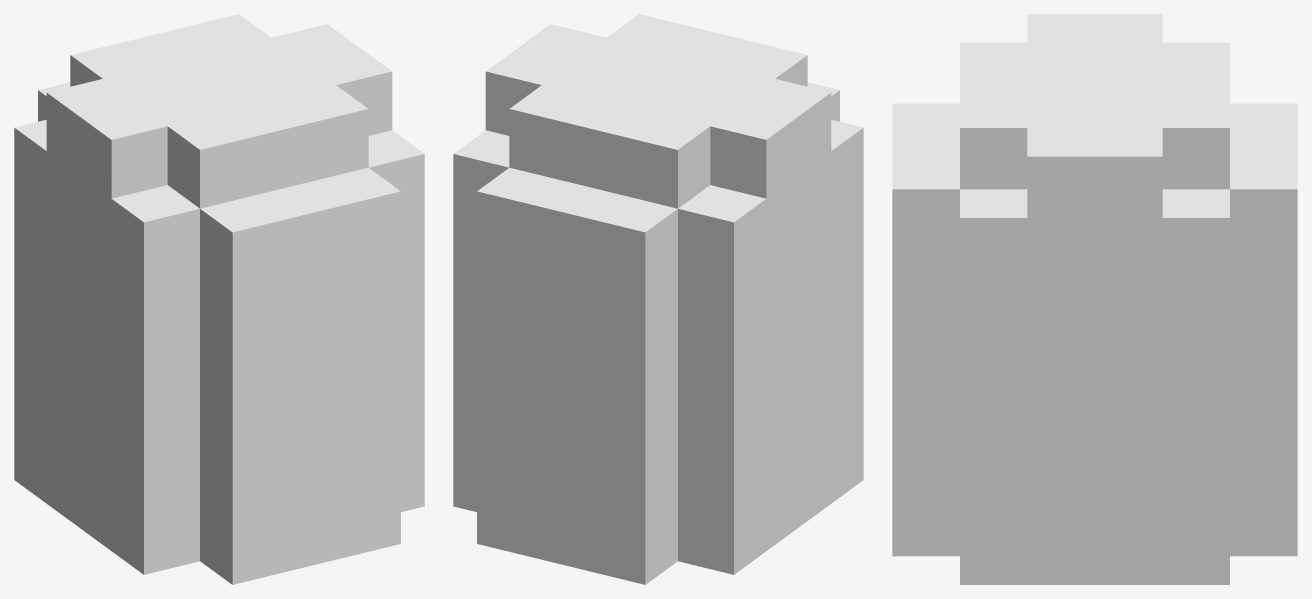
File: body_base.gltf
3 views of the same model, side by side, from view 1: azimuth 30°, elevation 25°; view 2: azimuth 150°, elevation 25°; view 3: azimuth 270°, elevation 25° (orthographic). The views are drawn at different scales.
Parts seen in each view (by area): view 1: Layer.1; view 2: Layer.1; view 3: Layer.1.
Boxes of the visible parts, x1=… form: Layer.1: x1=14, y1=14, x2=424, y2=584; Layer.1: x1=453, y1=14, x2=863, y2=584; Layer.1: x1=892, y1=14, x2=1297, y2=584.
Size of the model in its own units: 5 by 7 by 6.
1 material, 1 textured.
